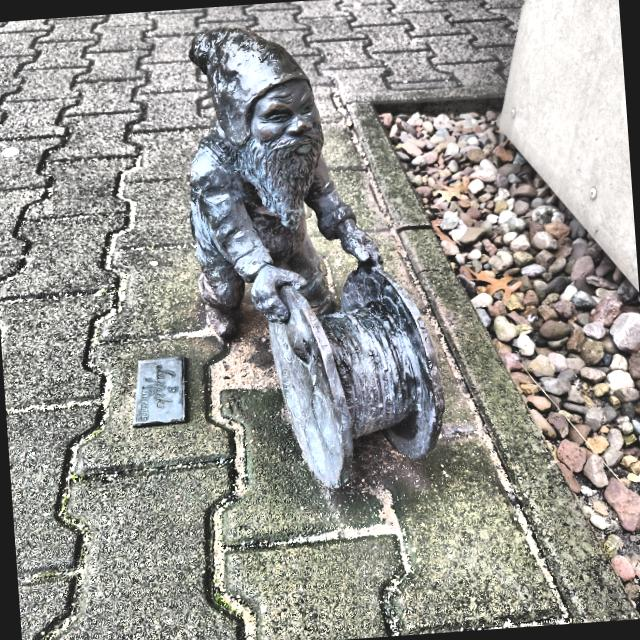Lappek: (190, 30, 439, 491)
